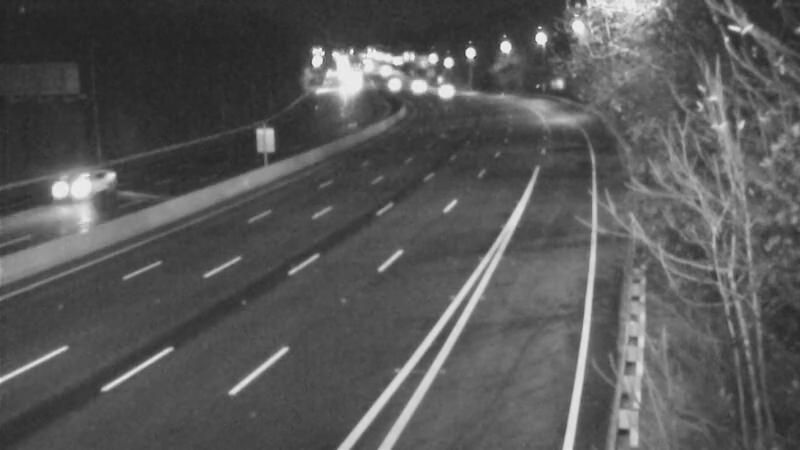vehicle: (31, 149, 111, 229), (368, 59, 418, 109), (391, 61, 441, 111), (423, 65, 473, 115)
